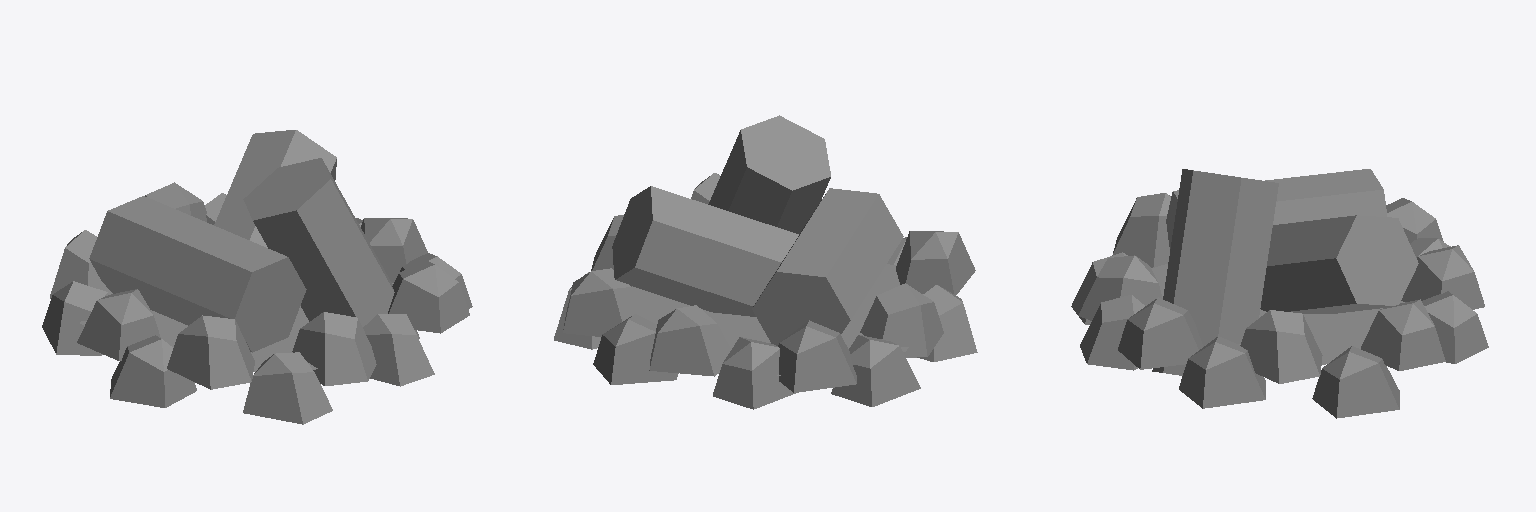
Rendered from firepit.obj.
3 views of the same model, side by side, from view 1: azimuth 30°, elevation 25°; view 2: azimuth 150°, elevation 25°; view 3: azimuth 270°, elevation 25° (orthographic).
Visible parts, largest first — view 1: Component_12, Component_13, group_1; view 2: Component_13, Component_12, group_1; view 3: Component_12, Component_13, group_1.
Boxes of the visible parts, x1=… form: Component_12: x1=42, y1=182, x2=472, y2=424; Component_13: x1=89, y1=130, x2=419, y2=352; group_1: x1=80, y1=283, x2=393, y2=371; Component_13: x1=612, y1=115, x2=903, y2=345; Component_12: x1=554, y1=173, x2=977, y2=409; group_1: x1=632, y1=264, x2=908, y2=375; Component_12: x1=1071, y1=193, x2=1488, y2=418; Component_13: x1=1152, y1=169, x2=1418, y2=375; group_1: x1=1151, y1=264, x2=1404, y2=364.
Size of the model in its own units: 101 by 54.85 by 103.